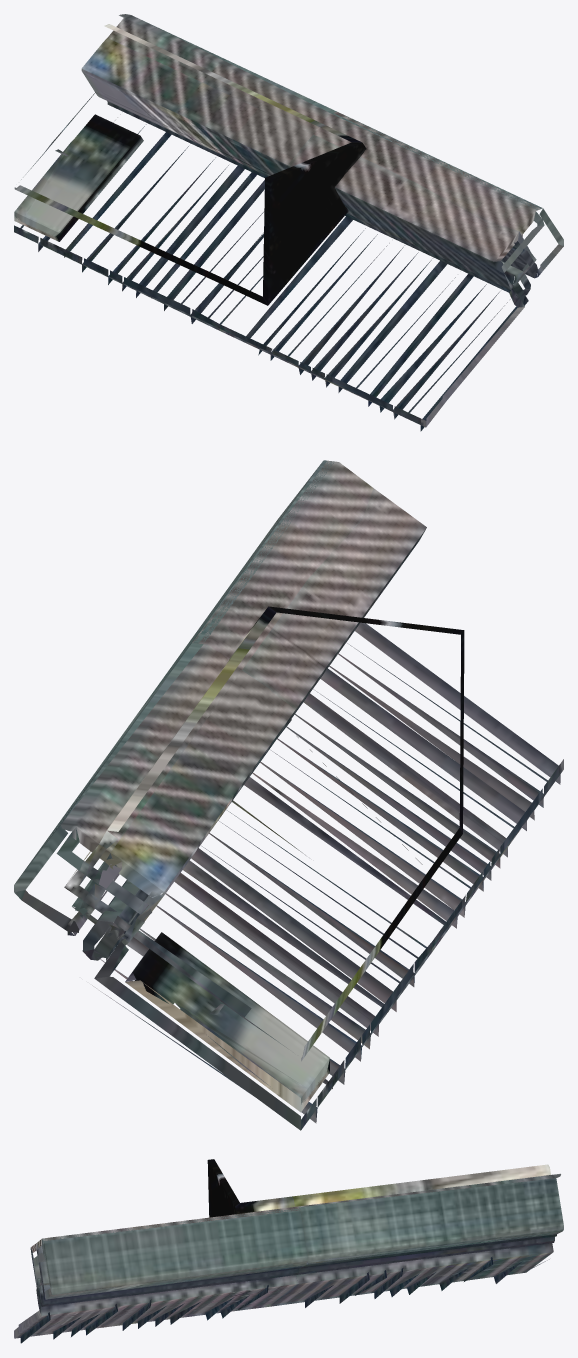
The model's file is tile_035.glb.
The picture shows the model from 3 angles, top to bottom: view 1: azimuth 30°, elevation 25°; view 2: azimuth 150°, elevation 25°; view 3: azimuth 270°, elevation 25°; orthographic projection. The views are drawn at different scales.
Size of the model in its own units: 79.98 by 52.24 by 152.
Materials: 2 (2 with a texture image).
